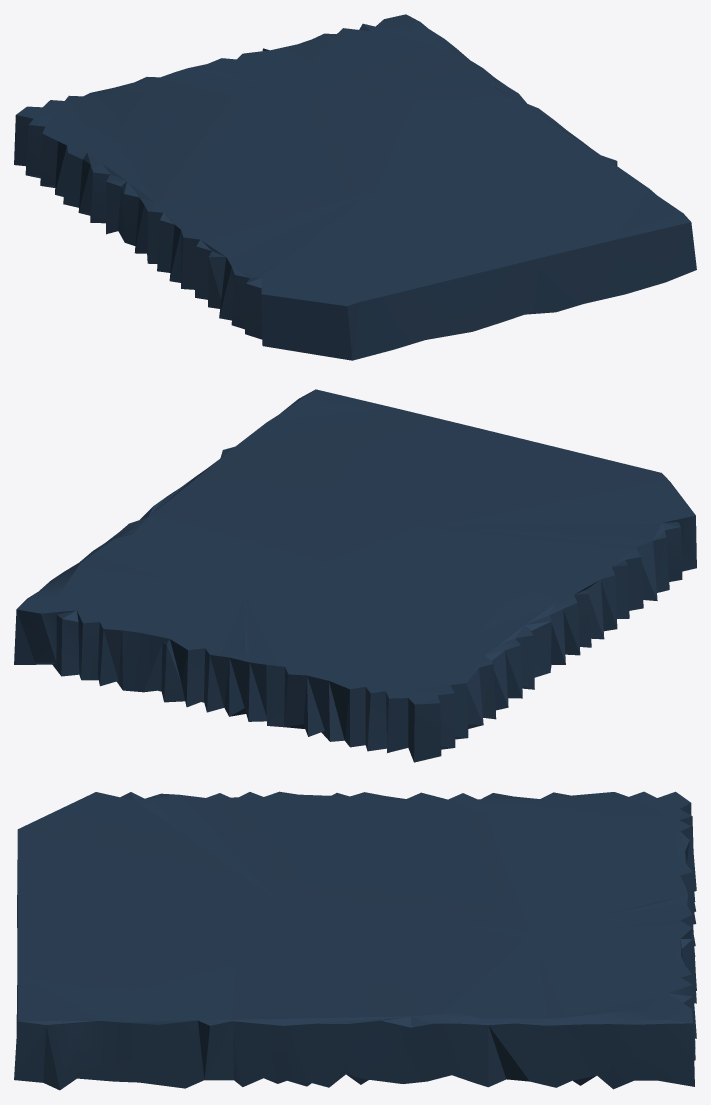
File: 01-ceiling-v2.fbx
The picture shows the model from 3 angles, top to bottom: view 1: azimuth 30°, elevation 25°; view 2: azimuth 150°, elevation 25°; view 3: azimuth 270°, elevation 25°; orthographic projection. The views are drawn at different scales.
Visible parts, largest first — view 1: model; view 2: model; view 3: model.
Part boxes in pixels (left/top/right/bottom): model: left=14, top=14, right=696, bottom=360; model: left=14, top=389, right=696, bottom=762; model: left=14, top=791, right=696, bottom=1090.
Size of the model in its own units: 155 by 21.64 by 190.
